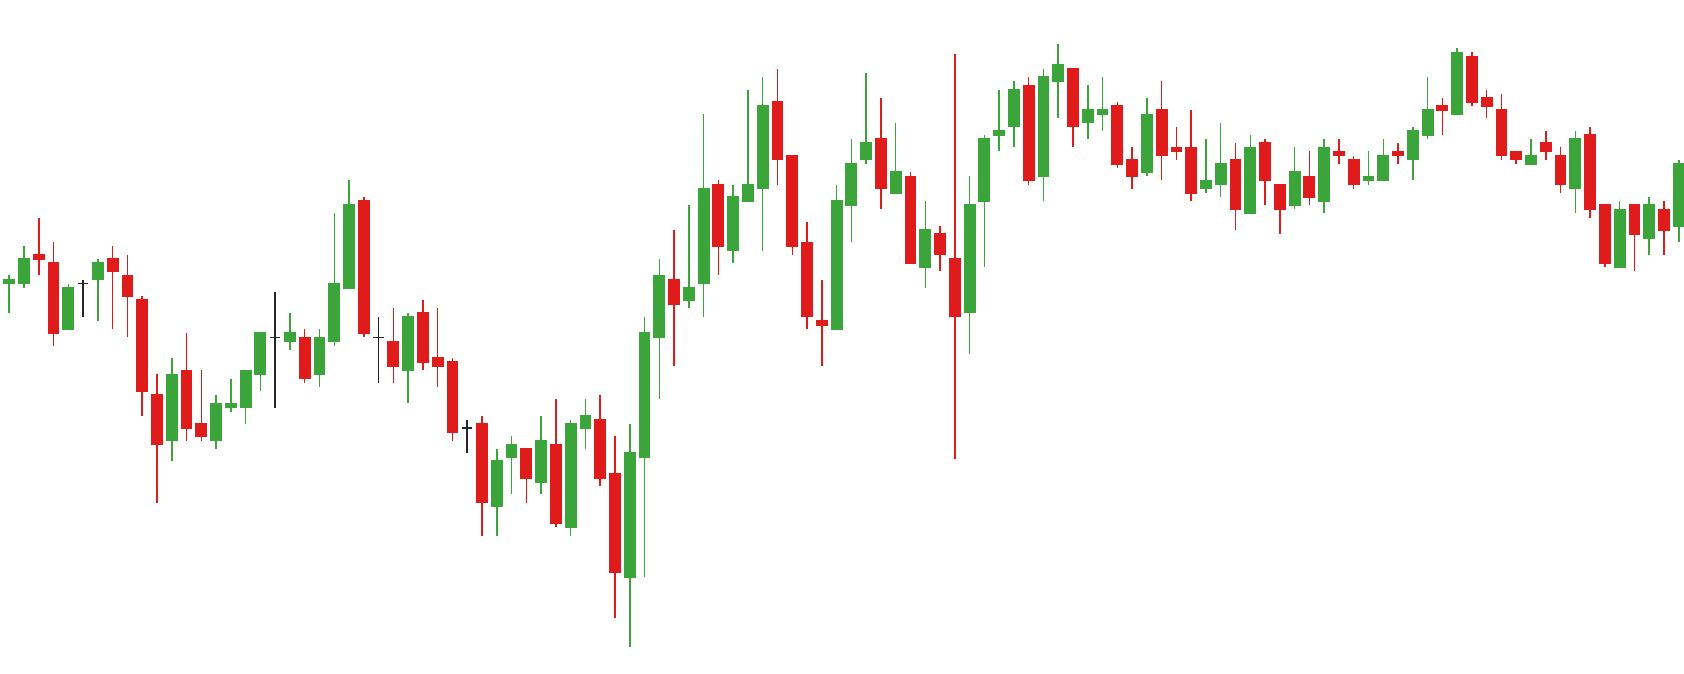buy: (478, 433, 636, 653)
